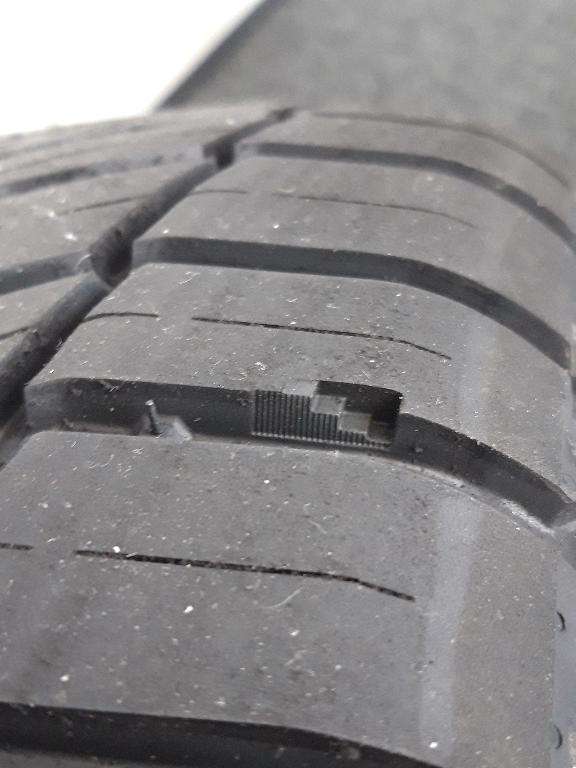temoin:75: (272, 372, 416, 468)
